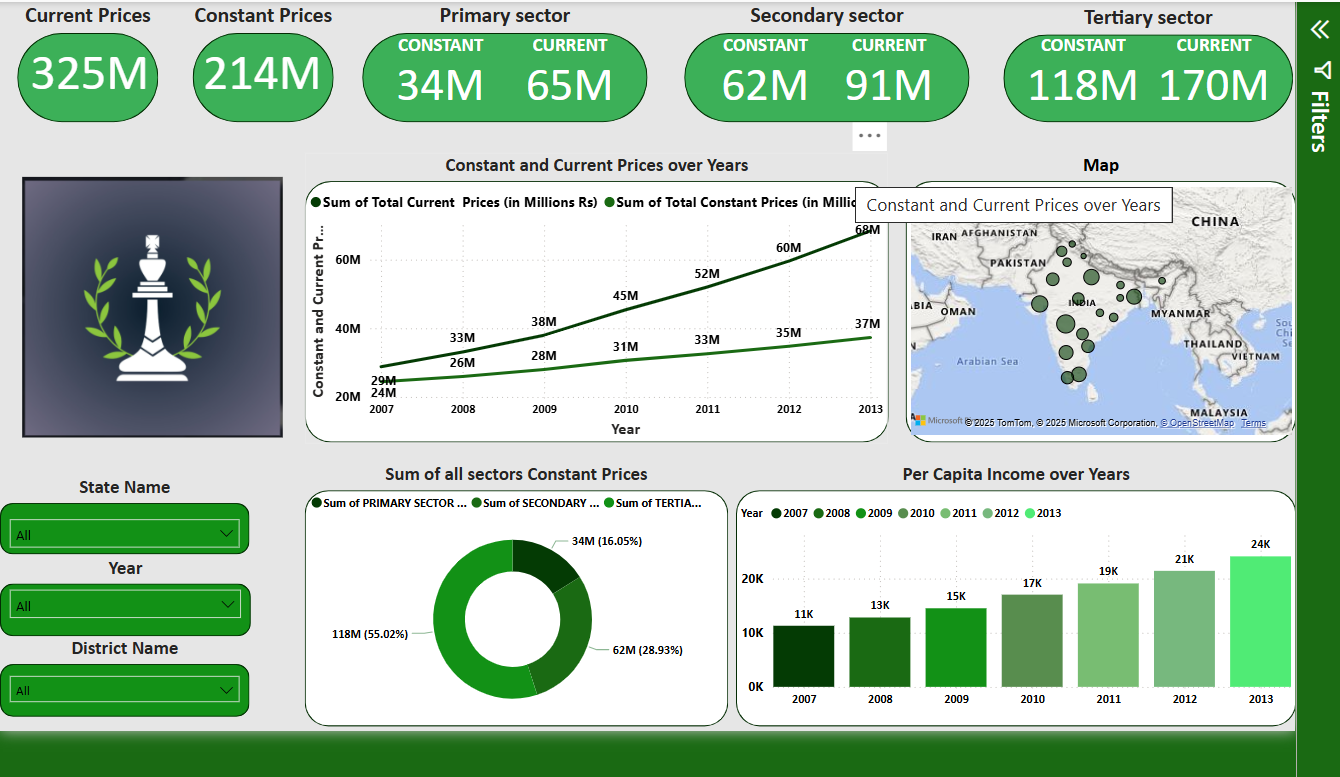

What the dashboard file says about the page in this screenshot:
{"tool":"powerbi","page":{"name":"Page 1","canvas":[1280,720],"ordinal":0},"visuals":[{"type":"shape","title":"Sum of all sectors Constant Prices","box":[300.9,455,418.3,261.3],"z":0},{"type":"donutChart","title":"Sum of Primary, Secondary,Tertiary Sector Constant Prices ","fields":{"Y":["Sum(LIVE PROJECT.PRIMARY SECTOR CONSTANT PRICES (in Millions Rs))","Sum(LIVE PROJECT.SECONDARY SECTOR CONSTANT PRICES (Millions in Rs))","Sum(LIVE PROJECT.TERTIARY SECTOR CONSTANT PRICES (Millions in Rs))"]},"box":[302.3,475.5,408,240.7],"z":1000},{"type":"shape","title":"Per Capita Income over Years","box":[726.5,455,553.3,261.3],"z":2000},{"type":"columnChart","fields":{"Category":["LIVE PROJECT.Year"],"Y":["Sum(LIVE PROJECT.PerCapitaCurrentPrices(1000inRs))"],"Series":["LIVE PROJECT.Year"]},"box":[726.5,485.8,553.3,220.2],"z":3000},{"type":"shape","title":"Map","box":[893.8,149.7,386,286.2],"z":4000},{"type":"map","fields":{"Category":["LIVE PROJECT.State Name"],"Size":["Sum(LIVE PROJECT.Total Constant Prices (in Millions Rs))"]},"box":[893.8,177.6,386,255.4],"z":5000},{"type":"shape","title":"Constant and Current Prices over Years","box":[300.9,149.7,576.8,286.2],"z":6000},{"type":"lineChart","title":"Sum of Total Current and Constant prices by Year","fields":{"Category":["LIVE PROJECT.Year"],"Y":["Sum(LIVE PROJECT.Total Current  Prices (in Millions Rs))","Sum(LIVE PROJECT.Total Constant Prices (in Millions Rs))"]},"box":[300.9,177.6,576.8,258.3],"z":7000},{"type":"shape","title":"Current Prices","box":[17.6,0,139.4,118.9],"z":8000},{"type":"card","fields":{"Values":["Sum(LIVE PROJECT.Total Current  Prices (in Millions Rs))"]},"box":[23.5,13.2,129.2,105.7],"z":9000},{"type":"shape","title":"Constant Prices","box":[190.8,0,139.4,118.9],"z":10000},{"type":"card","fields":{"Values":["Sum(LIVE PROJECT.Total Constant Prices (in Millions Rs))"]},"box":[195.2,13.2,129.2,105.7],"z":11000},{"type":"shape","title":"Primary sector","box":[358.1,0,281.8,118.9],"z":12000},{"type":"card","title":"CONSTANT","fields":{"Values":["Sum(LIVE PROJECT.PRIMARY SECTOR CONSTANT PRICES (in Millions Rs))"]},"box":[369.9,29.4,129.2,73.4],"z":13000},{"type":"card","title":"CURRENT","fields":{"Values":["Sum(LIVE PROJECT.PRIMARY SECTOR CURRENT PRICES (in Million Rs))"]},"box":[499,29.4,129.2,73.4],"z":14000},{"type":"shape","title":"Secondary sector","box":[675.1,0,281.8,118.9],"z":15000},{"type":"shape","title":"Tertiary sector","box":[990.7,1.5,286.2,117.4],"z":16000},{"type":"card","title":"CONSTANT","fields":{"Values":["Sum(LIVE PROJECT.SECONDARY SECTOR CONSTANT PRICES (Millions in Rs))"]},"box":[691.3,29.4,129.2,73.4],"z":17000},{"type":"card","title":"CURRENT","fields":{"Values":["Sum(LIVE PROJECT.SECONDARY SECTOR CURRENT PRICES (Millions in Rs))"]},"box":[813.1,29.4,129.2,73.4],"z":18000},{"type":"card","title":"CURRENT","fields":{"Values":["Sum(LIVE PROJECT.TERTIARY SECTOR CURRENT PRICES (Millions in Rs))"]},"box":[1134.5,29.4,129.2,73.4],"z":19000},{"type":"card","title":"CONSTANT","fields":{"Values":["Sum(LIVE PROJECT.TERTIARY SECTOR CONSTANT PRICES (Millions in Rs))"]},"box":[1005.4,29.4,129.2,73.4],"z":20000},{"type":"shape","title":"District Name","box":[13.2,626.7,246.6,79.3],"z":21000},{"type":"slicer","fields":{"Values":["LIVE PROJECT.Dist Name"]},"box":[13.2,654.6,246.6,51.4],"z":22000},{"type":"shape","title":"Year","box":[11.7,546,248,80.7],"z":23000},{"type":"slicer","fields":{"Values":["LIVE PROJECT.Year"]},"box":[11.7,570.9,248,48.4],"z":24000},{"type":"shape","title":"State Name","box":[14.7,468.2,246.6,77.8],"z":25000},{"type":"slicer","fields":{"Values":["LIVE PROJECT.State Name"]},"box":[17.6,500.5,246.6,45.5],"z":26000},{"type":"image","box":[17,149.1,266.9,305.2],"z":27000}]}

Visuals, with their boxes on the page's 1280x720 design canvas (x1, y1, x2, y2). These are canvas units, not pixel positions in the 1340x777 screenshot, which may show the page scaled, cropped or inside an application window:
"Sum of all sectors Constant Prices" shape: pyautogui.locateOnScreen(301, 455, 719, 716)
"Sum of Primary, Secondary,Tertiary Sector Constant Prices " donutChart: pyautogui.locateOnScreen(302, 476, 710, 716)
"Per Capita Income over Years" shape: pyautogui.locateOnScreen(726, 455, 1280, 716)
columnChart - LIVE PROJECT.Year x Sum(LIVE PROJECT.PerCapitaCurrentPrices(1000inRs)): pyautogui.locateOnScreen(726, 486, 1280, 706)
"Map" shape: pyautogui.locateOnScreen(894, 150, 1280, 436)
map - LIVE PROJECT.State Name x Sum(LIVE PROJECT.Total Constant Prices (in Millions Rs)): pyautogui.locateOnScreen(894, 178, 1280, 433)
"Constant and Current Prices over Years" shape: pyautogui.locateOnScreen(301, 150, 878, 436)
"Sum of Total Current and Constant prices by Year" lineChart: pyautogui.locateOnScreen(301, 178, 878, 436)
"Current Prices" shape: pyautogui.locateOnScreen(18, 0, 157, 119)
card - Sum(LIVE PROJECT.Total Current  Prices (in Millions Rs)): pyautogui.locateOnScreen(24, 13, 153, 119)
"Constant Prices" shape: pyautogui.locateOnScreen(191, 0, 330, 119)
card - Sum(LIVE PROJECT.Total Constant Prices (in Millions Rs)): pyautogui.locateOnScreen(195, 13, 324, 119)
"Primary sector" shape: pyautogui.locateOnScreen(358, 0, 640, 119)
"CONSTANT" card: pyautogui.locateOnScreen(370, 29, 499, 103)
"CURRENT" card: pyautogui.locateOnScreen(499, 29, 628, 103)
"Secondary sector" shape: pyautogui.locateOnScreen(675, 0, 957, 119)
"Tertiary sector" shape: pyautogui.locateOnScreen(991, 2, 1277, 119)
"CONSTANT" card: pyautogui.locateOnScreen(691, 29, 820, 103)
"CURRENT" card: pyautogui.locateOnScreen(813, 29, 942, 103)
"CURRENT" card: pyautogui.locateOnScreen(1134, 29, 1264, 103)
"CONSTANT" card: pyautogui.locateOnScreen(1005, 29, 1135, 103)
"District Name" shape: pyautogui.locateOnScreen(13, 627, 260, 706)
slicer - LIVE PROJECT.Dist Name: pyautogui.locateOnScreen(13, 655, 260, 706)
"Year" shape: pyautogui.locateOnScreen(12, 546, 260, 627)
slicer - LIVE PROJECT.Year: pyautogui.locateOnScreen(12, 571, 260, 619)
"State Name" shape: pyautogui.locateOnScreen(15, 468, 261, 546)
slicer - LIVE PROJECT.State Name: pyautogui.locateOnScreen(18, 500, 264, 546)
image: pyautogui.locateOnScreen(17, 149, 284, 454)
